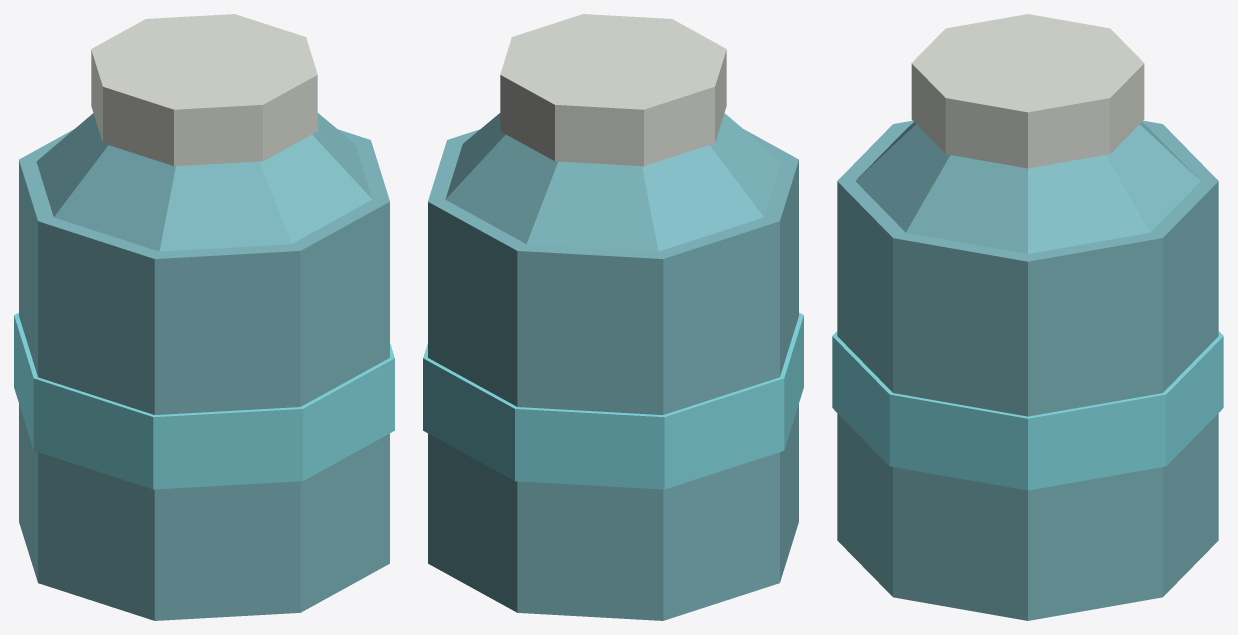
Rendered from water.glb.
The picture shows the model from 3 angles, left to right: view 1: azimuth 30°, elevation 25°; view 2: azimuth 150°, elevation 25°; view 3: azimuth 270°, elevation 25°; orthographic projection.
Parts seen in each view (by area): view 1: water / Glass and lenses, water / Ivory polymer, water / Cyan markings; view 2: water / Glass and lenses, water / Ivory polymer, water / Cyan markings; view 3: water / Glass and lenses, water / Cyan markings, water / Ivory polymer.
Part boxes in pixels (<box>): water / Glass and lenses: <box>19,113,389,620</box>; water / Ivory polymer: <box>91,14,317,166</box>; water / Cyan markings: <box>14,312,394,489</box>; water / Glass and lenses: <box>428,113,798,620</box>; water / Ivory polymer: <box>500,14,726,166</box>; water / Cyan markings: <box>423,312,803,489</box>; water / Glass and lenses: <box>837,120,1218,620</box>; water / Cyan markings: <box>832,331,1223,490</box>; water / Ivory polymer: <box>911,14,1144,168</box>.
Size of the model in its own units: 0.158 by 0.2125 by 0.158.
